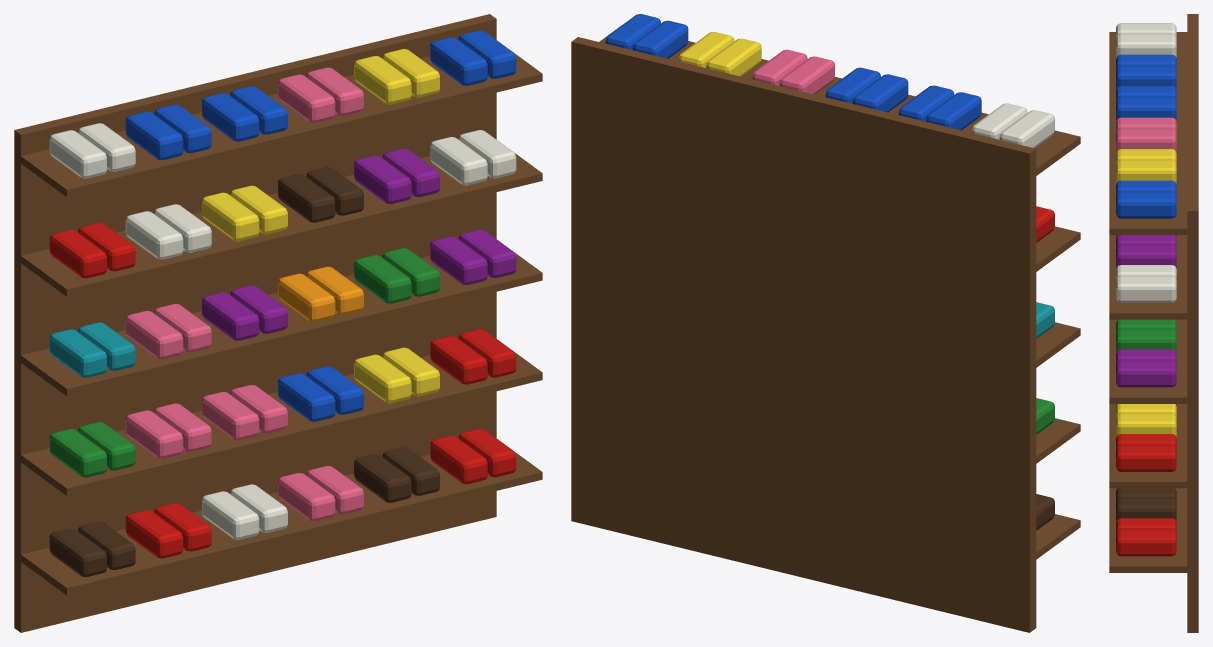
File: shoe_wall.glb
The picture shows the model from 3 angles, left to right: view 1: azimuth 30°, elevation 25°; view 2: azimuth 150°, elevation 25°; view 3: azimuth 270°, elevation 25°; orthographic projection. The views are drawn at different scales.
Parts seen in each view (by area): view 1: shoe_wall; view 2: shoe_wall; view 3: shoe_wall.
Boxes of the visible parts, x1,y1,x2,y2 form: shoe_wall: (14,14,542,632); shoe_wall: (571,14,1080,632); shoe_wall: (1109,14,1198,632).
Size of the model in its own units: 2 by 2.01 by 0.385.
1 material, 1 textured.
